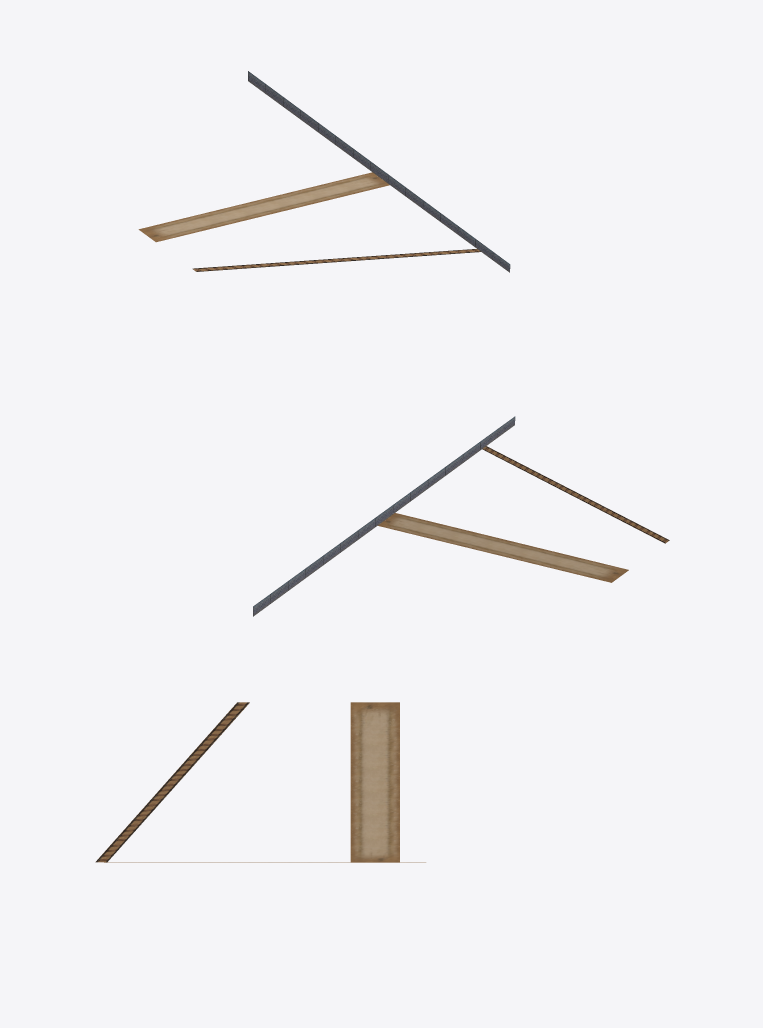
File: DESERT.glb
3 renders of one model, top to bottom at view 1: azimuth 30°, elevation 25°; view 2: azimuth 150°, elevation 25°; view 3: azimuth 270°, elevation 25°, orthographic. The views are drawn at different scales.
Parts seen in each view (by area): view 1: DESERT; view 2: DESERT; view 3: DESERT.
Boxes of the visible parts, left/top/right/bottom form: DESERT: left=138, top=71, right=510, bottom=272; DESERT: left=253, top=416, right=669, bottom=616; DESERT: left=95, top=702, right=425, bottom=862.
Size of the model in its own units: 31243 by 652 by 30018.
Materials: 5 (5 with a texture image).
